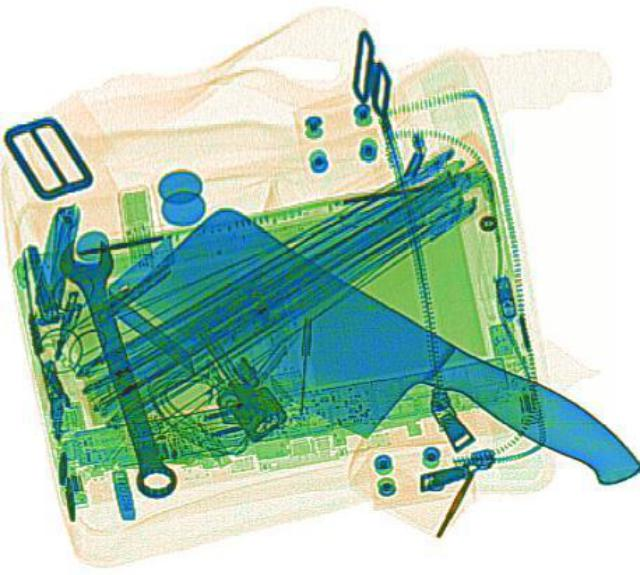Knife: (136, 200, 638, 549)
Wrench: (52, 232, 184, 501)
